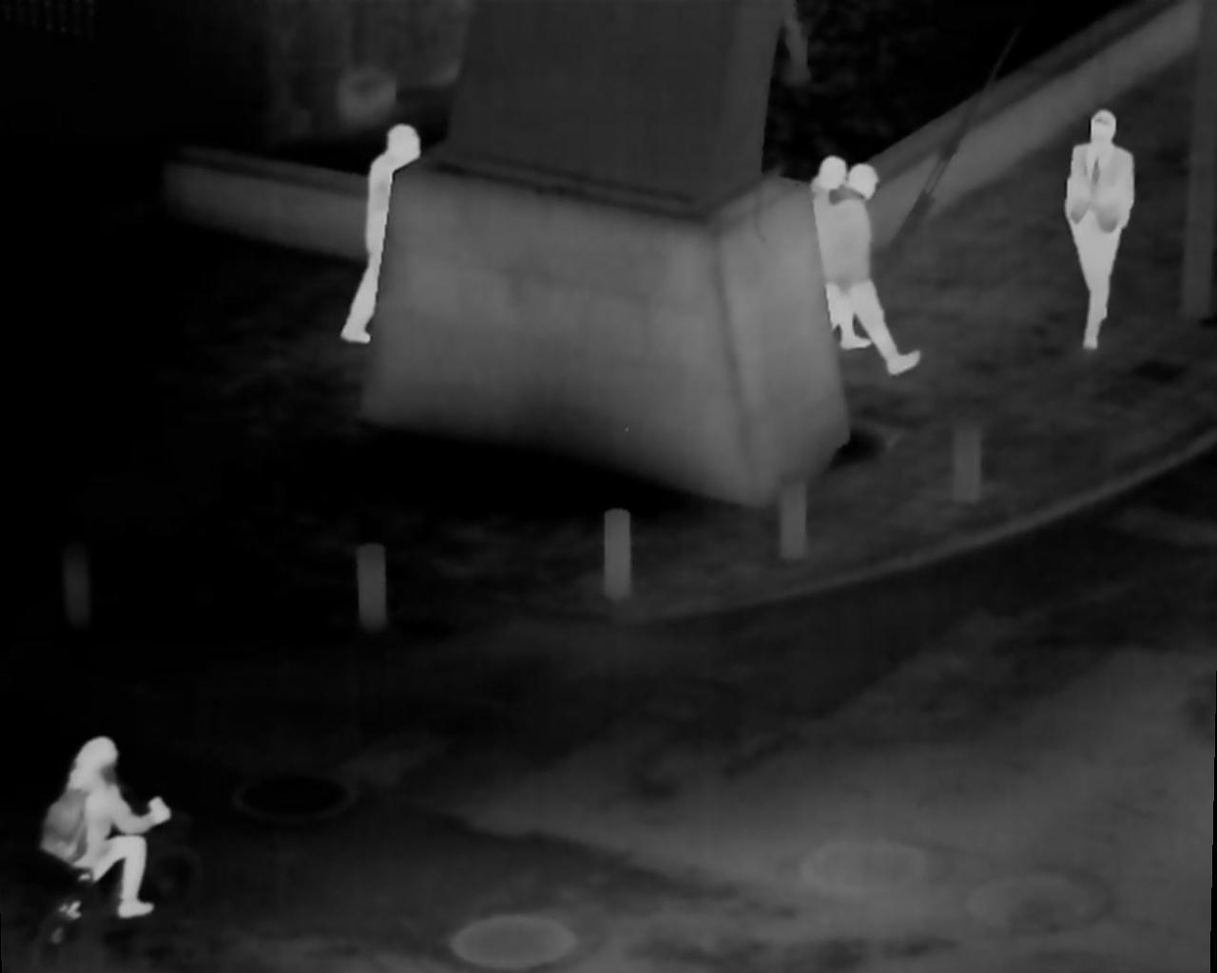person: (46, 735, 166, 925), (338, 126, 431, 353), (1055, 107, 1140, 352), (822, 162, 923, 360), (798, 155, 877, 350)
